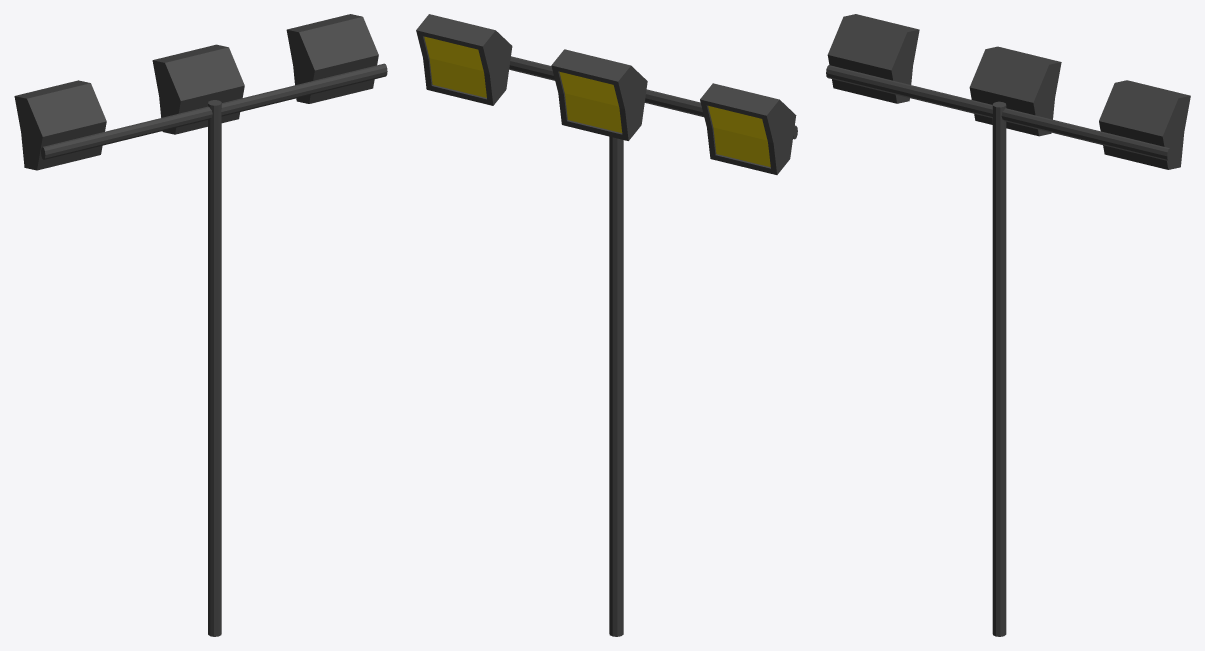
Rendered from LightPole01.obj.
3 views of the same model, side by side, from view 1: azimuth 30°, elevation 25°; view 2: azimuth 150°, elevation 25°; view 3: azimuth 330°, elevation 25° (orthographic). The views are drawn at different scales.
Visible parts, largest first — view 1: LightPole01_Cube.003; view 2: LightPole01_Cube.003; view 3: LightPole01_Cube.003.
Part boxes in pixels (<box>): LightPole01_Cube.003: <box>14,14,387,636</box>; LightPole01_Cube.003: <box>416,14,797,636</box>; LightPole01_Cube.003: <box>826,14,1190,636</box>.
Size of the model in its own units: 22.67 by 35.77 by 3.88.
